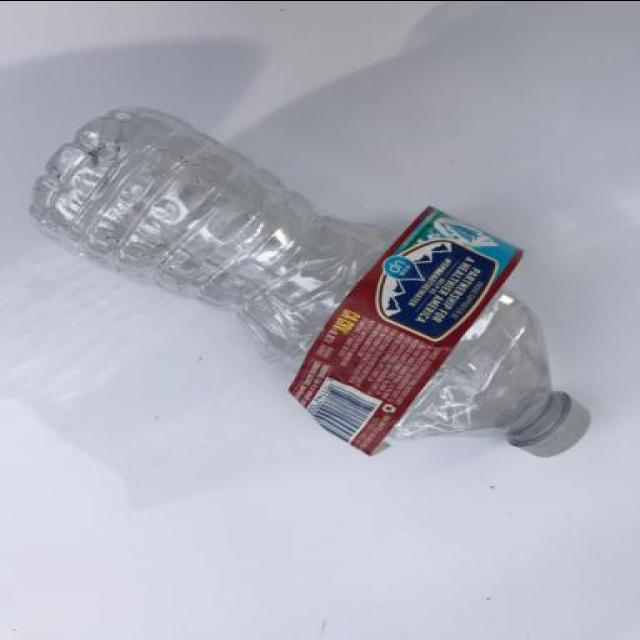litter: (25, 102, 595, 470)
